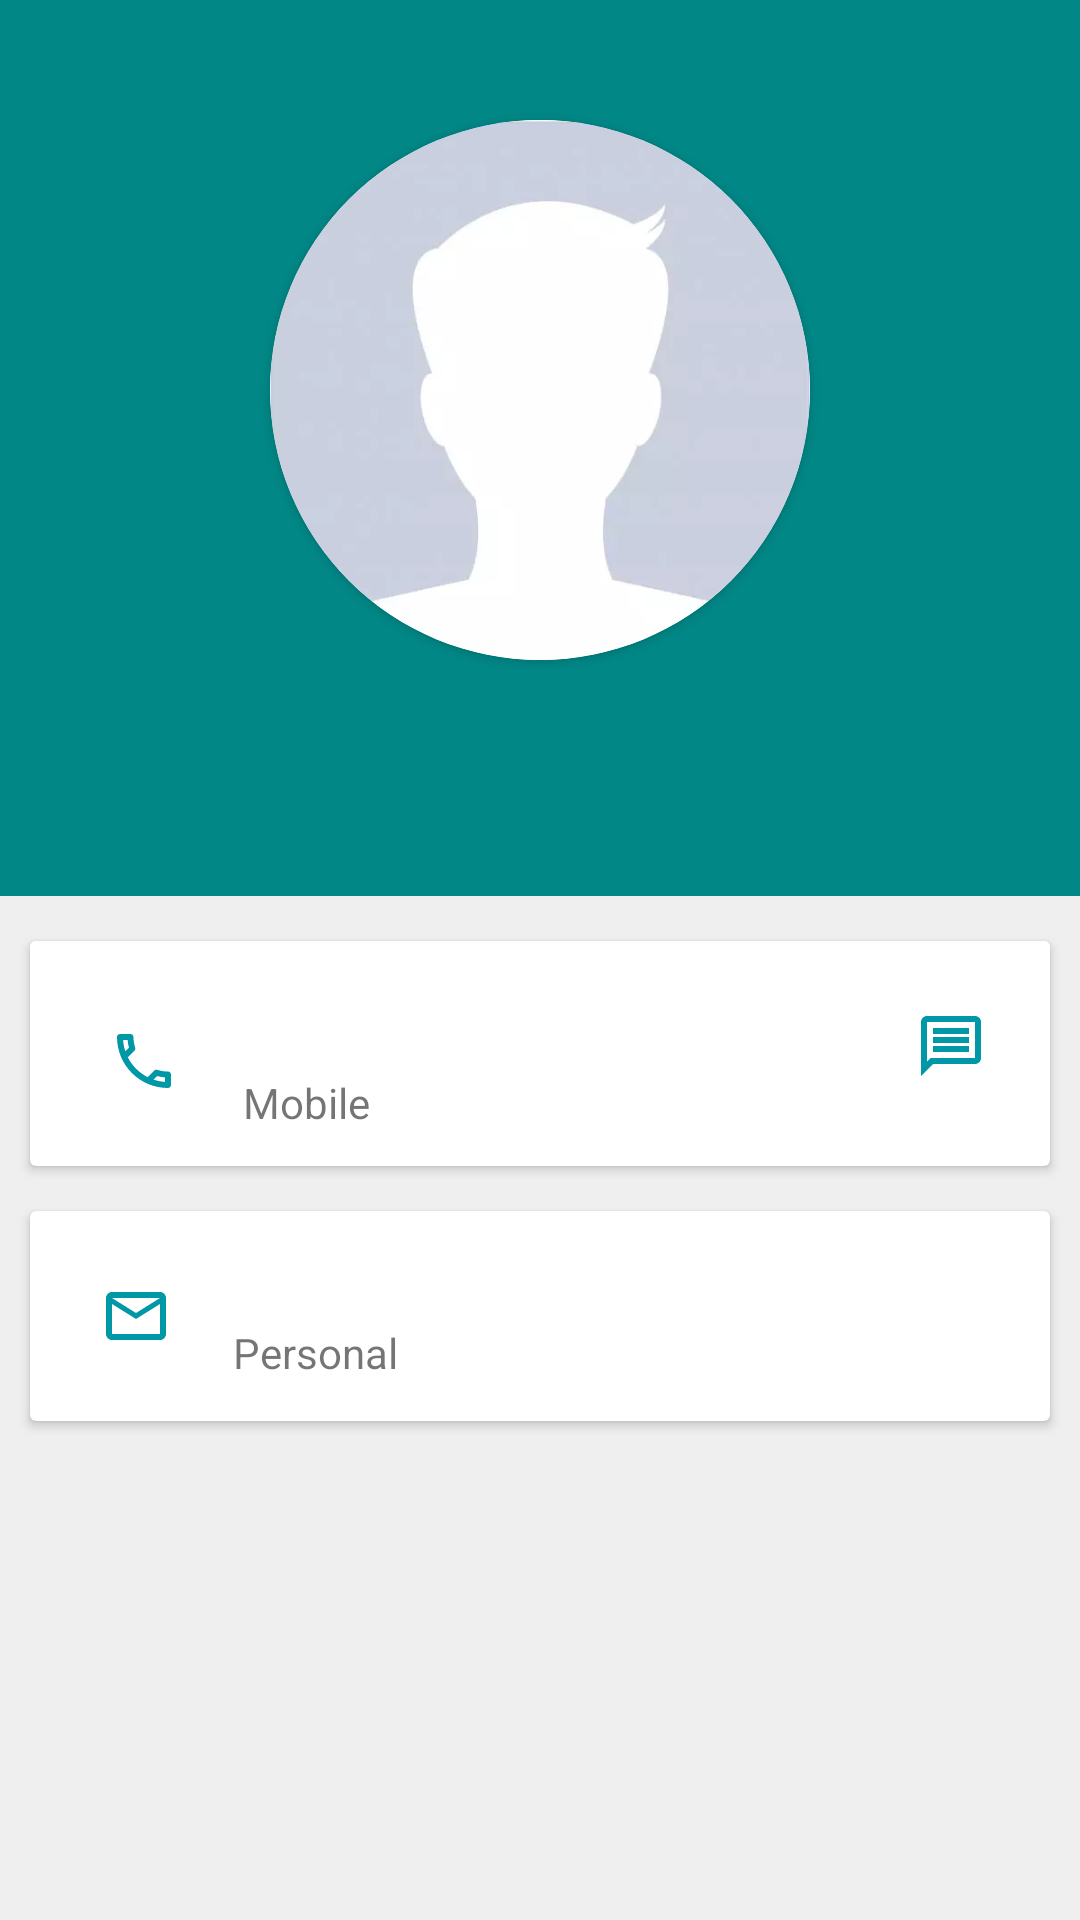

Icon bounding boxes for this 1080 × 1920 phone screenshot, format Rect(x1, y1, x2, y2):
email: Rect(106, 1292, 166, 1340)
message: Rect(921, 1016, 981, 1076)
phone: Rect(117, 1034, 171, 1088)
